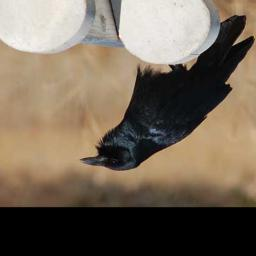Crow: (79, 13, 256, 171)
